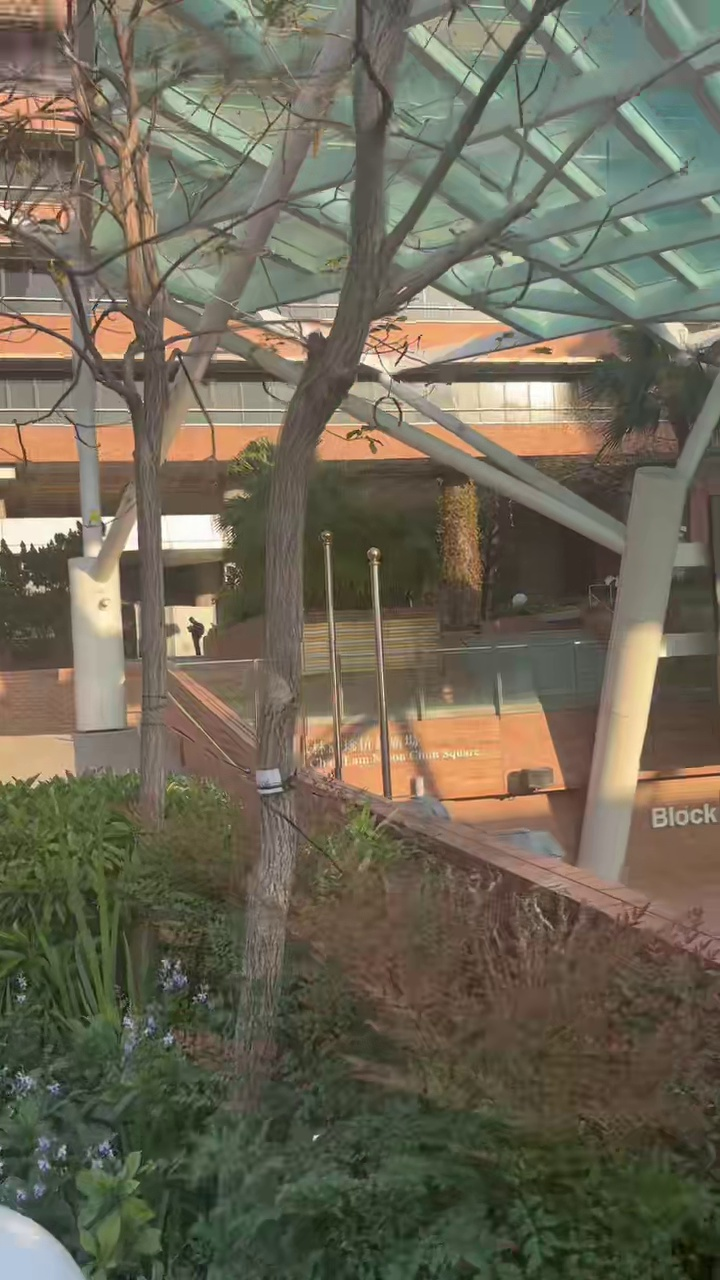Tabebuia chrysantha: (236, 0, 584, 1100)
